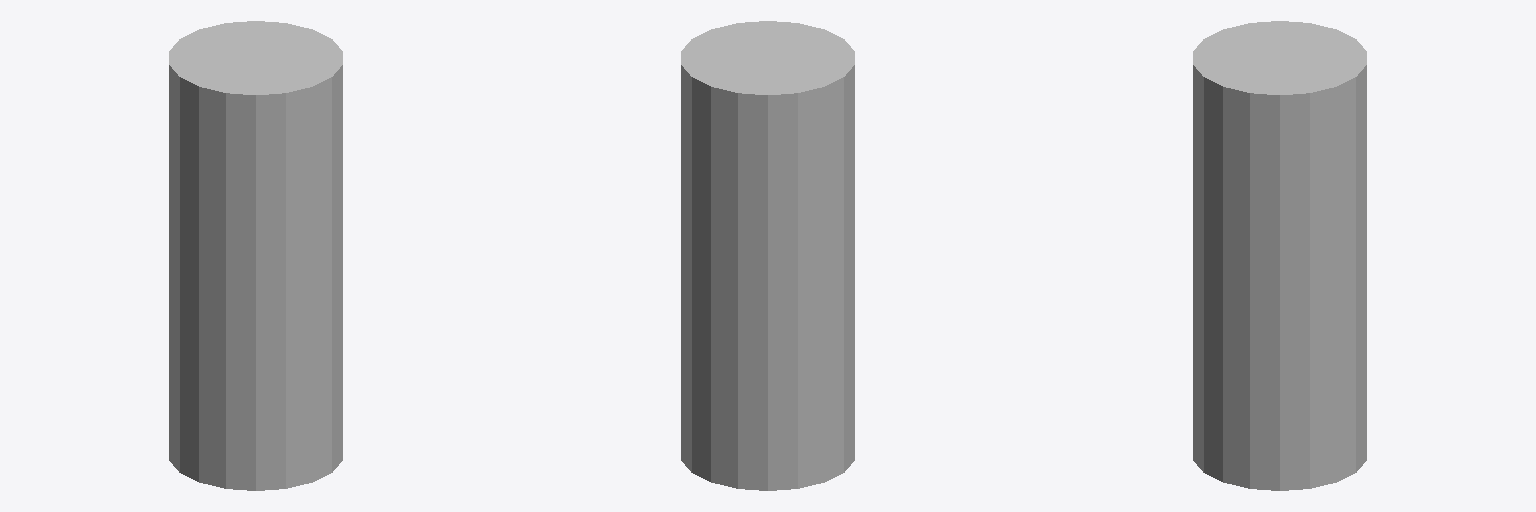
File: sauce_zfyu.obj
The picture shows the model from 3 angles: view 1: azimuth 30°, elevation 25°; view 2: azimuth 150°, elevation 25°; view 3: azimuth 270°, elevation 25°; orthographic projection.
Visible parts, largest first — view 1: Cylinder004; view 2: Cylinder004; view 3: Cylinder004.
Part boxes in pixels (x1,y1,x2,y2): Cylinder004: (169, 21, 342, 490); Cylinder004: (681, 21, 854, 490); Cylinder004: (1193, 21, 1366, 490).
Size of the model in its own units: 1.27 by 3.15 by 1.26.